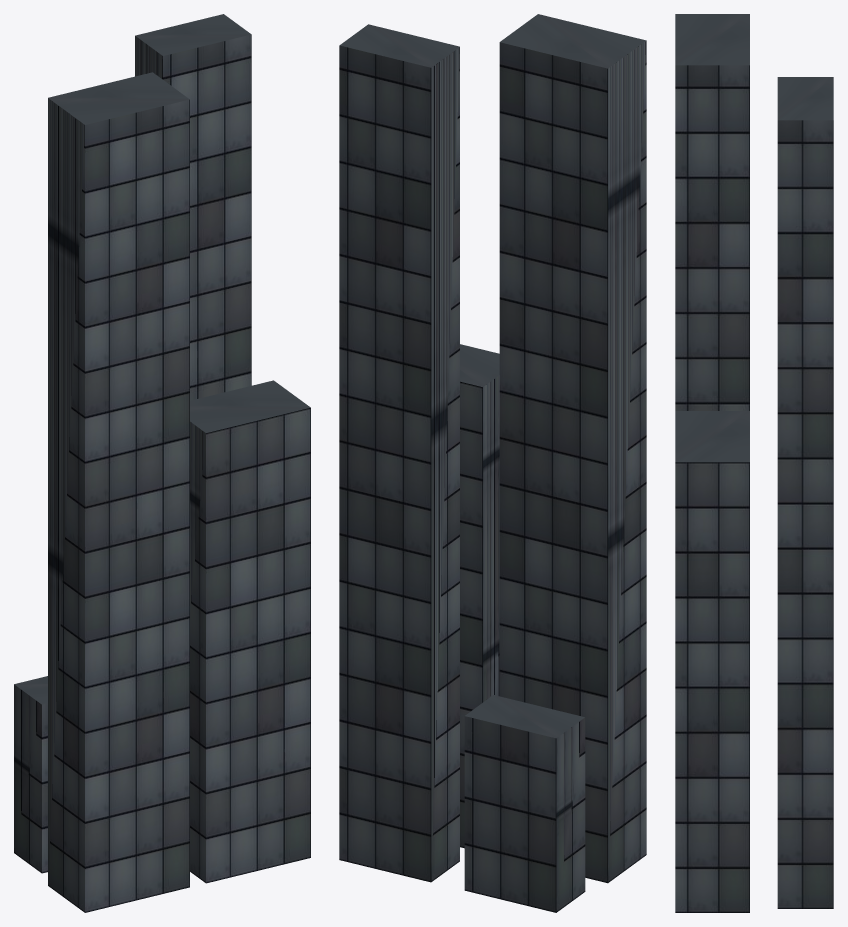
The model's file is block_02.obj.
3 renders of one model, left to right at view 1: azimuth 30°, elevation 25°; view 2: azimuth 150°, elevation 25°; view 3: azimuth 270°, elevation 25°, orthographic. The views are drawn at different scales.
Parts seen in each view (by area): view 1: b1, b3, b2, b0; view 2: b1, b2, b0, b3; view 3: b2, b3, b1.
Boxes of the visible parts, left/top/right/bottom form: b1: left=48, top=72, right=189, bottom=912; b3: left=190, top=380, right=310, bottom=883; b2: left=135, top=14, right=251, bottom=400; b0: left=14, top=676, right=47, bottom=873; b1: left=499, top=14, right=646, bottom=883; b2: left=339, top=24, right=459, bottom=882; b0: left=464, top=695, right=585, bottom=912; b3: left=460, top=344, right=499, bottom=848; b2: left=777, top=77, right=833, bottom=908; b3: left=675, top=411, right=749, bottom=912; b1: left=675, top=14, right=749, bottom=410.
Bounding box in the file's own units: 4.2 × 14 × 2.55.
